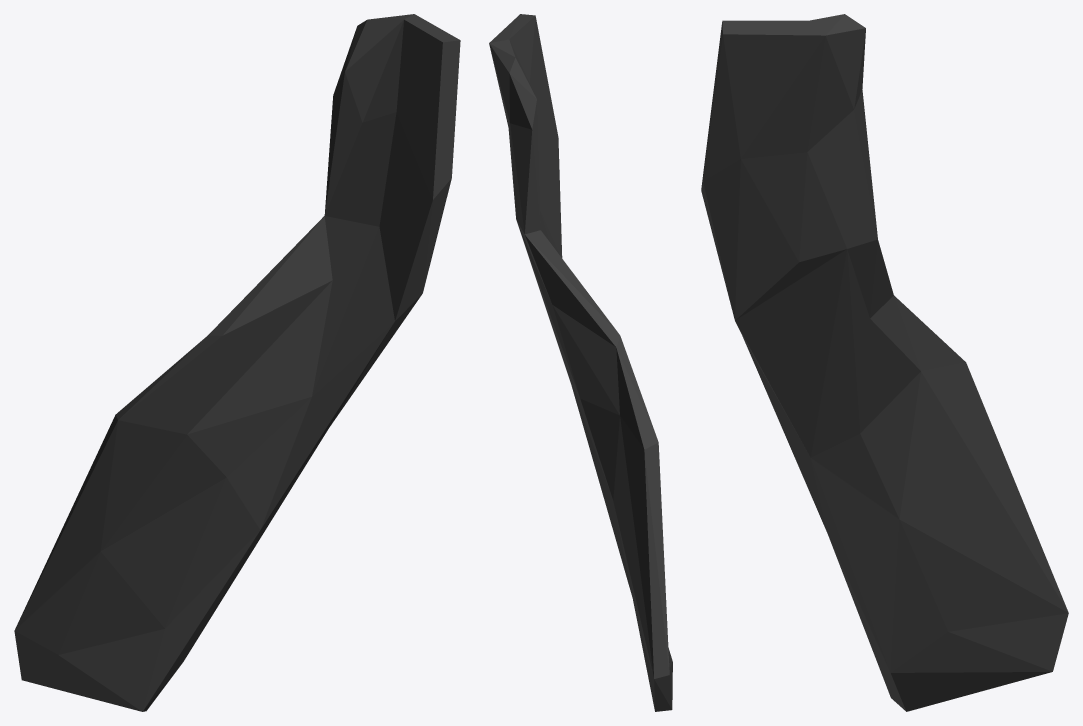
Rendered from Femur_intertrochanteric_crest.glb.
3 renders of one model, left to right at view 1: azimuth 30°, elevation 25°; view 2: azimuth 150°, elevation 25°; view 3: azimuth 270°, elevation 25°, orthographic. The views are drawn at different scales.
Visible parts, largest first — view 1: Femur_intertrochanteric_crest; view 2: Femur_intertrochanteric_crest; view 3: Femur_intertrochanteric_crest.
Boxes of the visible parts, box(x1,y1,x2,y2) form: Femur_intertrochanteric_crest: box(14, 14, 460, 711); Femur_intertrochanteric_crest: box(489, 14, 672, 711); Femur_intertrochanteric_crest: box(701, 14, 1068, 711).
Bounding box in the file's own units: 0.0169 × 0.0347 × 0.014.
Materials: 1 (1 with a texture image).
